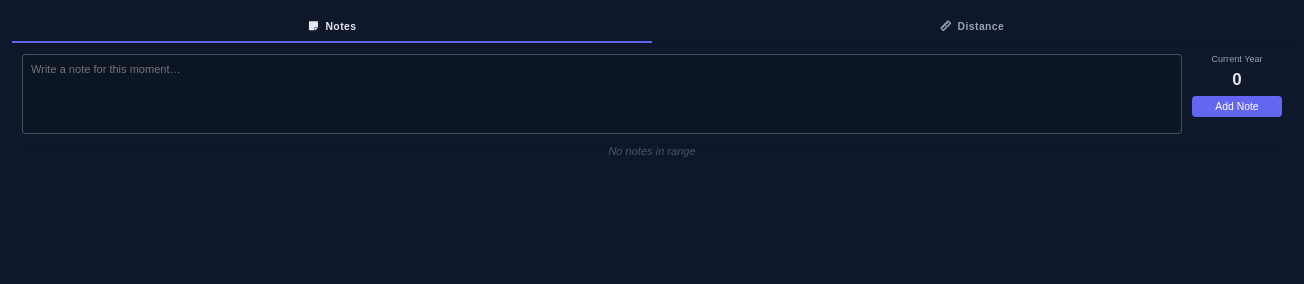
TimelineNotesPanel › Tab navigation › clicking the Distance tab switches to distance view
The width and height of the screenshot is (1304, 284).
What coordinates should you click on to do the following:
click the button with class "tab-btn" showing "Distance"
I would click on:
 (972, 28)
Its box is [652,12,1292,43].
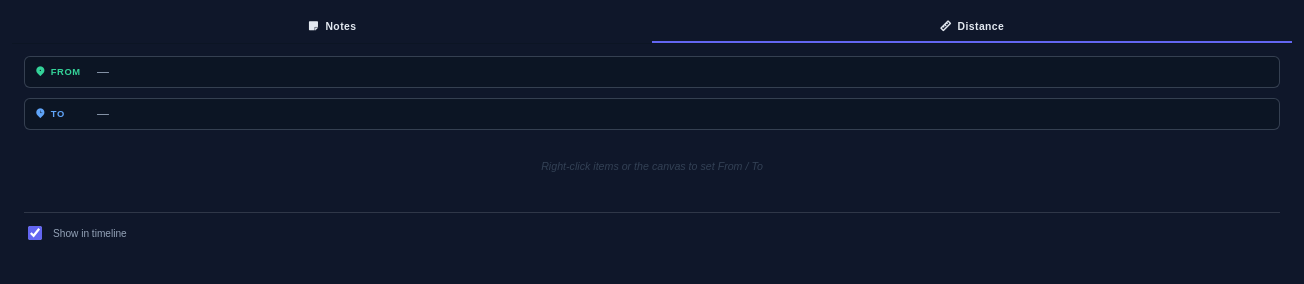
Expected: the element with class "dist-panel" is shown
